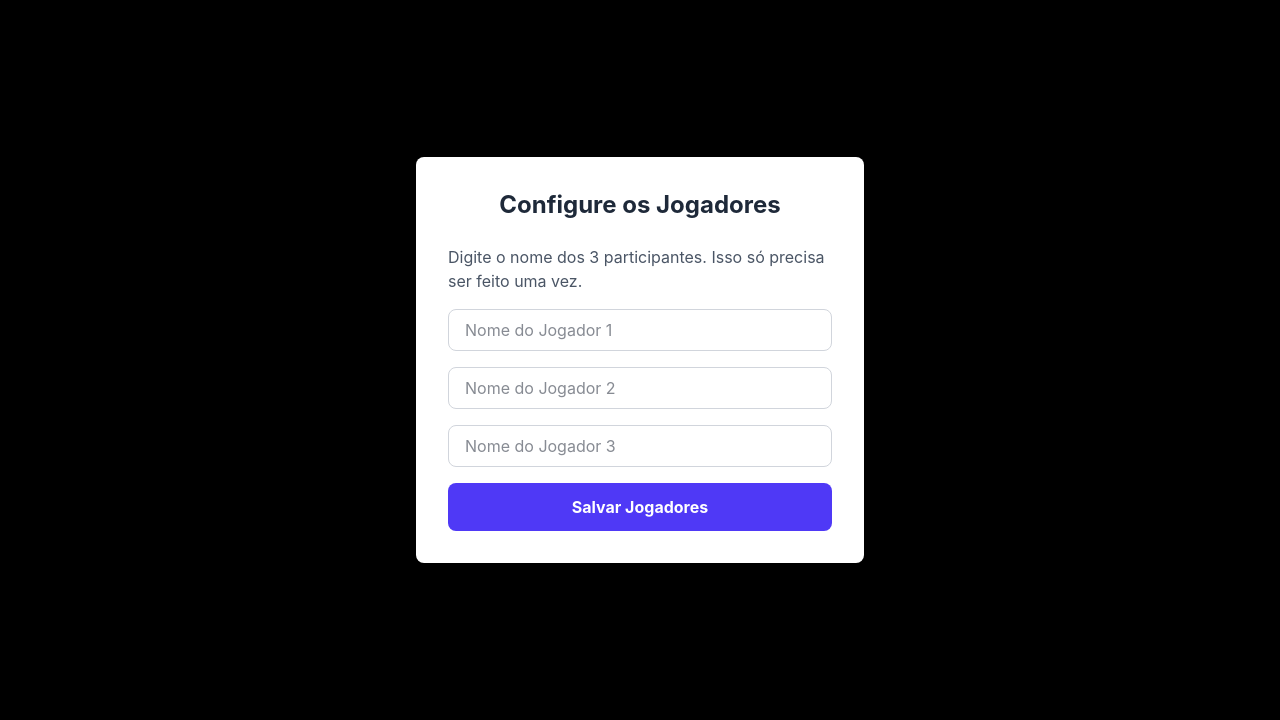
Test: PlayerSetupModal › shows validation error when a name has fewer than 2 characters
Type "A" into the field with placeholder "Nome do Jogador 1".
click(640, 330); type("A")  # box [448,309,832,351]
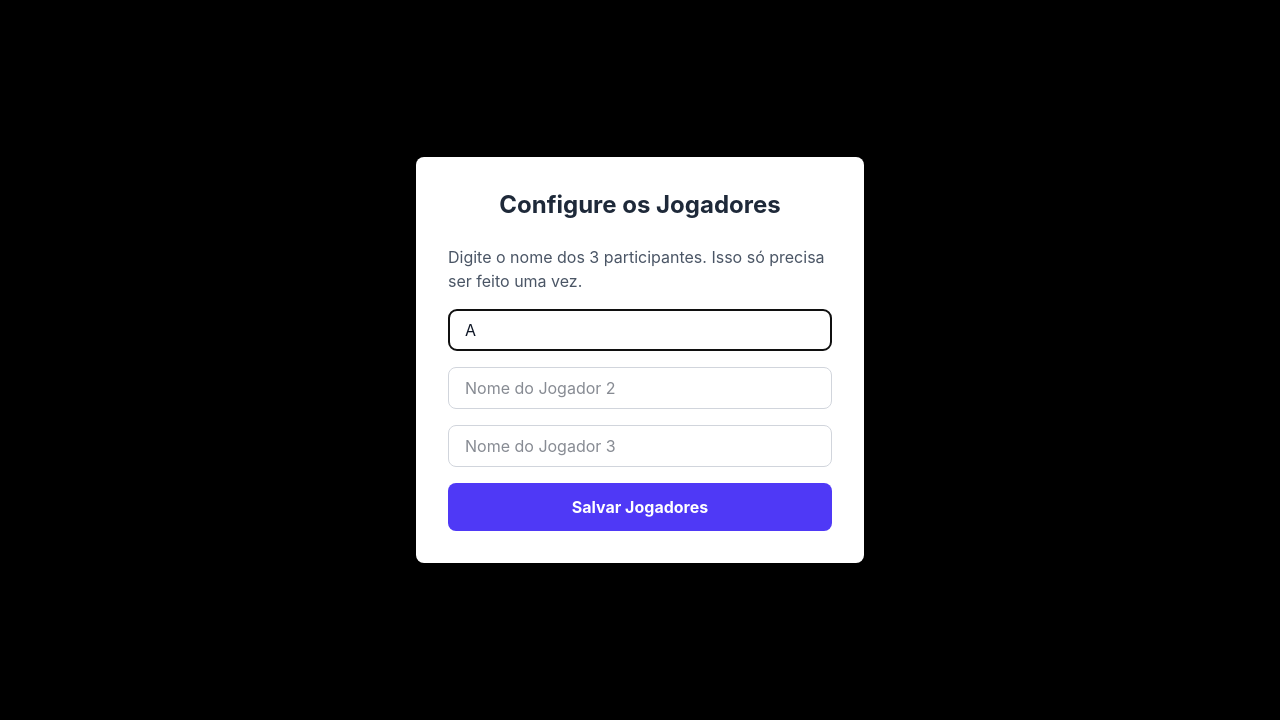
Type "Bruno" into the field with placeholder "Nome do Jogador 2".
click(640, 388); type("Bruno")  # box [448,367,832,409]
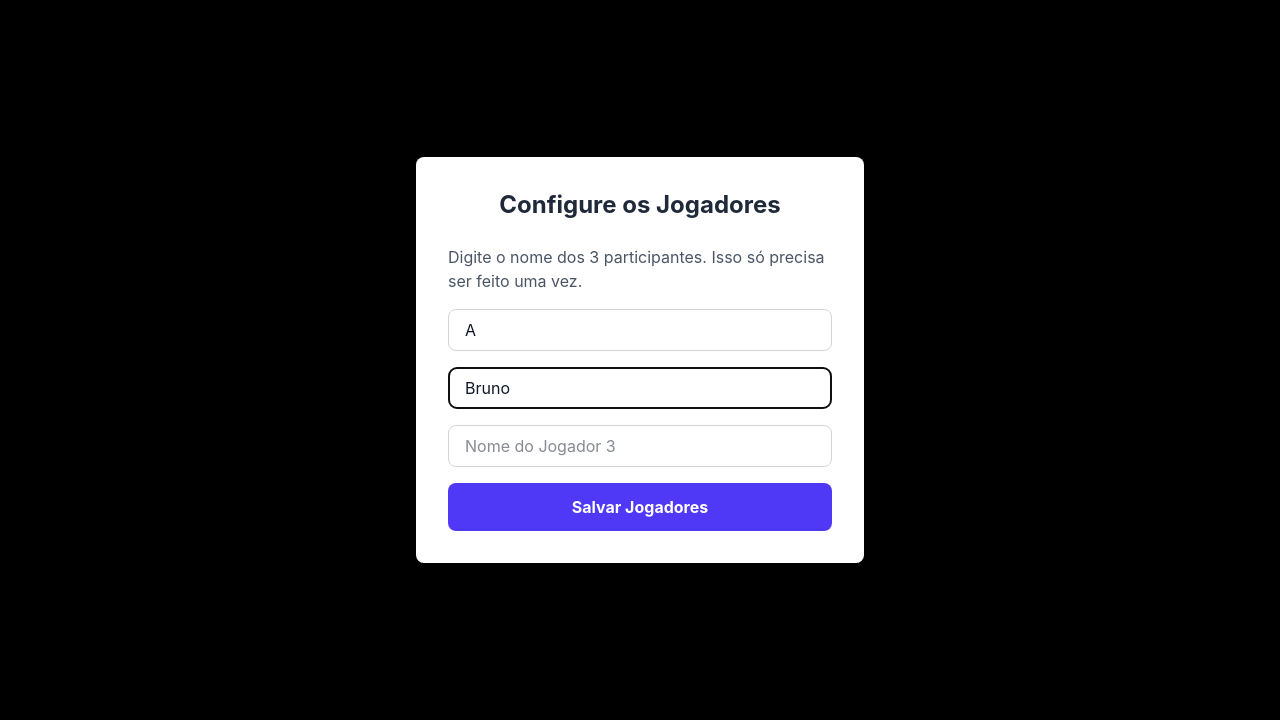
Type "Carlos" into the field with placeholder "Nome do Jogador 3".
click(640, 446); type("Carlos")  # box [448,425,832,467]
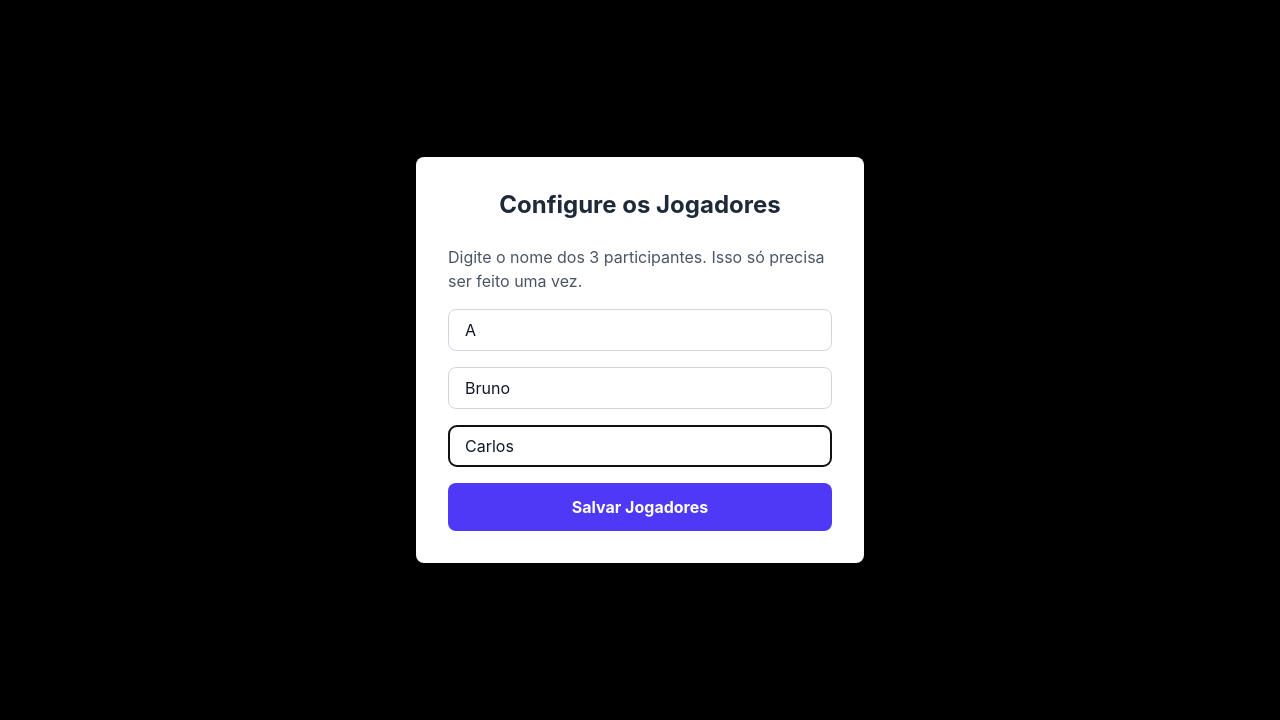
Click the button "Salvar Jogadores".
click(640, 507)  # box [448,483,832,531]
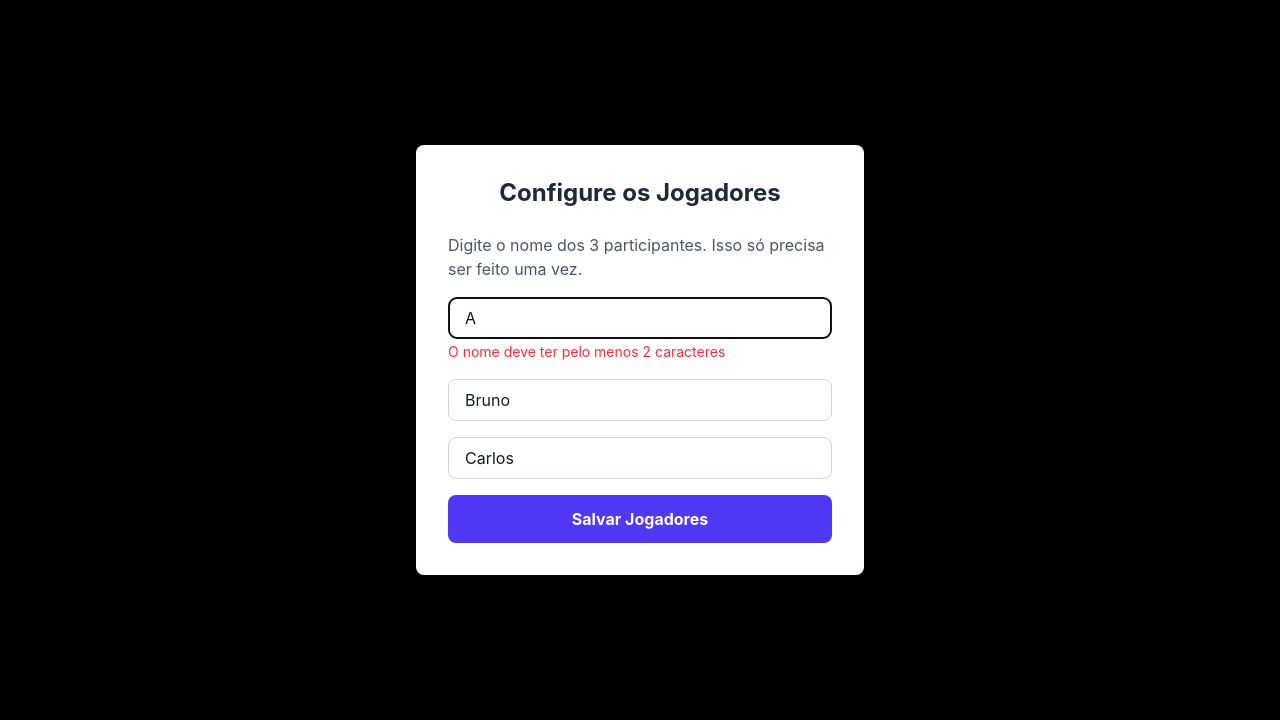
Check: the text "O nome deve ter pelo menos 2 caracteres" is shown, box [448,343,725,360]
